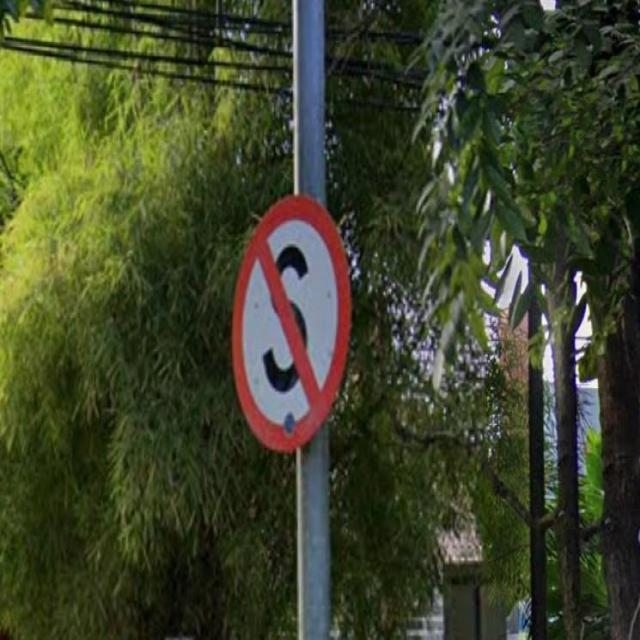traffic sign: (229, 192, 351, 456)
